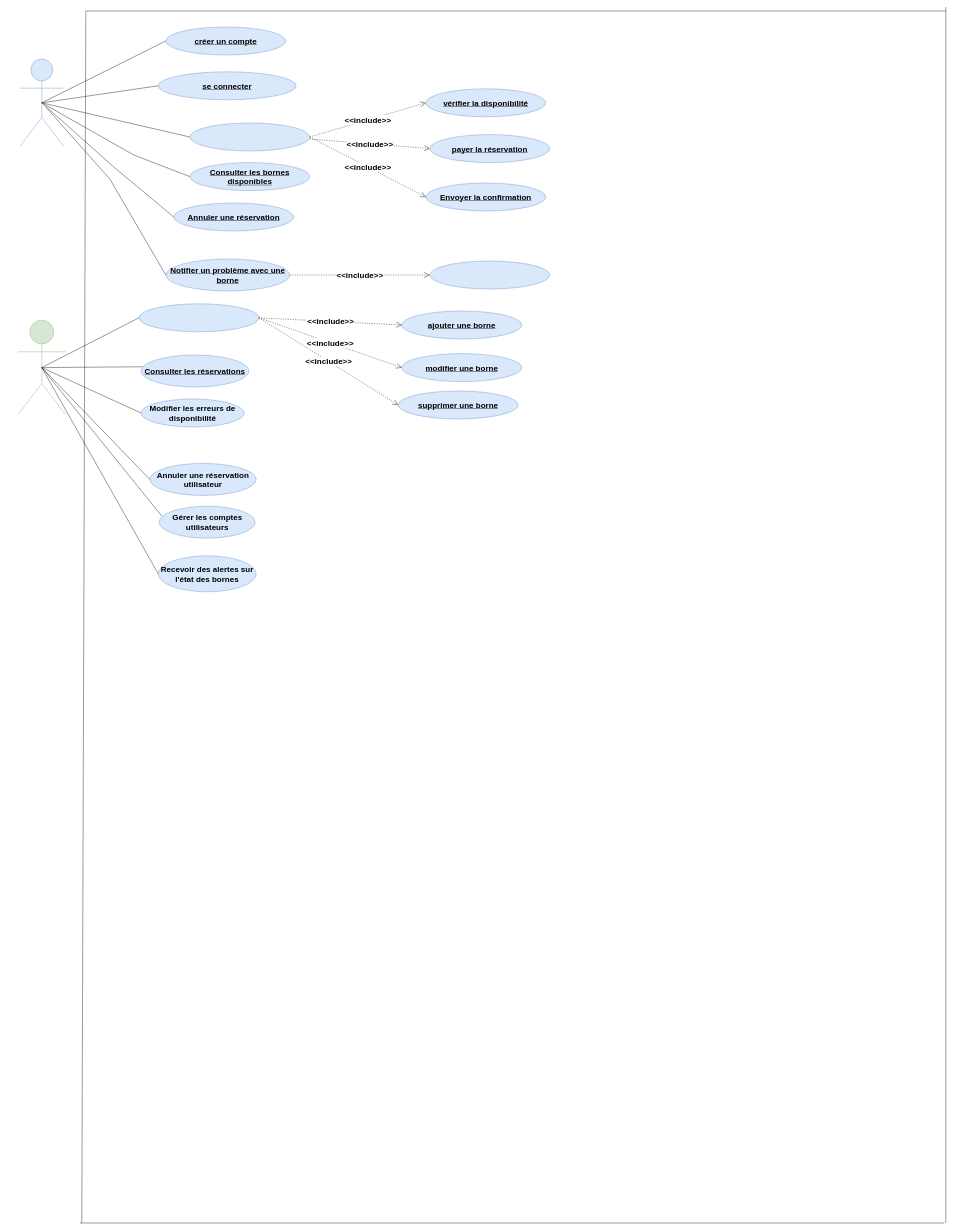
Some shapes in this 953 by 1230 pixel diagram are drawn without their labels. The shapes that lost their labels are listed below. From the top down, each one's centre as x and y in pixels, then its label:
At [41,103]: "Utilisateur".
At [249,137]: "Réserver une borne".
At [489,275]: "alterer l'administrateur".
At [199,317]: "Gérer les bornes".
At [41,367]: "Administrateur".
